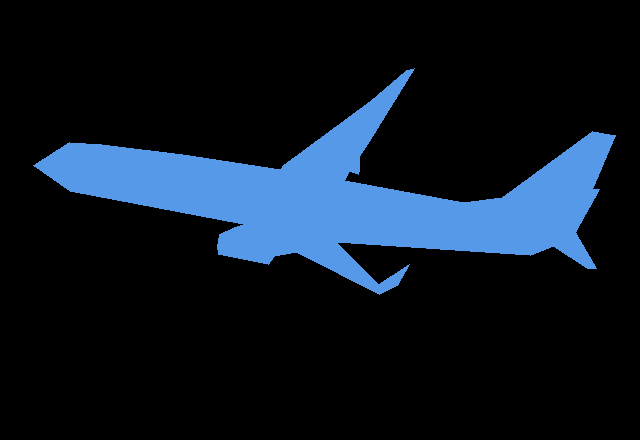Airplane: (33, 68, 616, 295)
